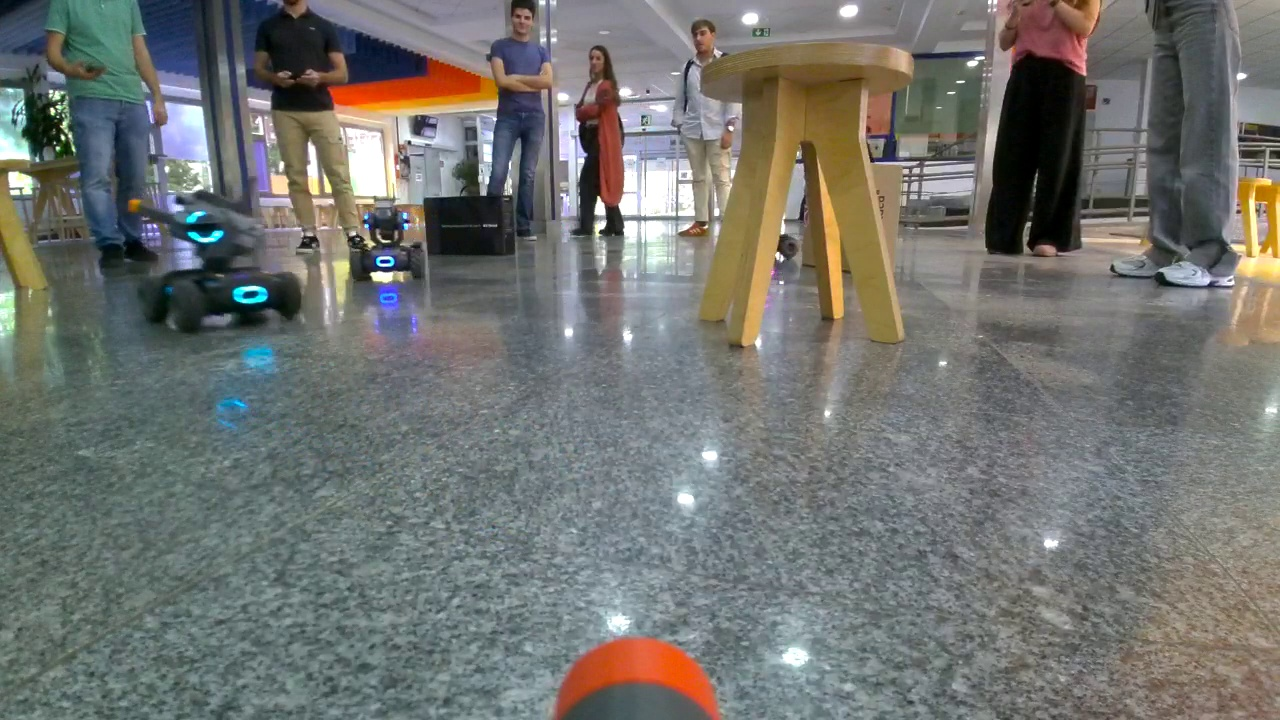robot: (144, 187, 295, 336), (347, 204, 426, 285)
